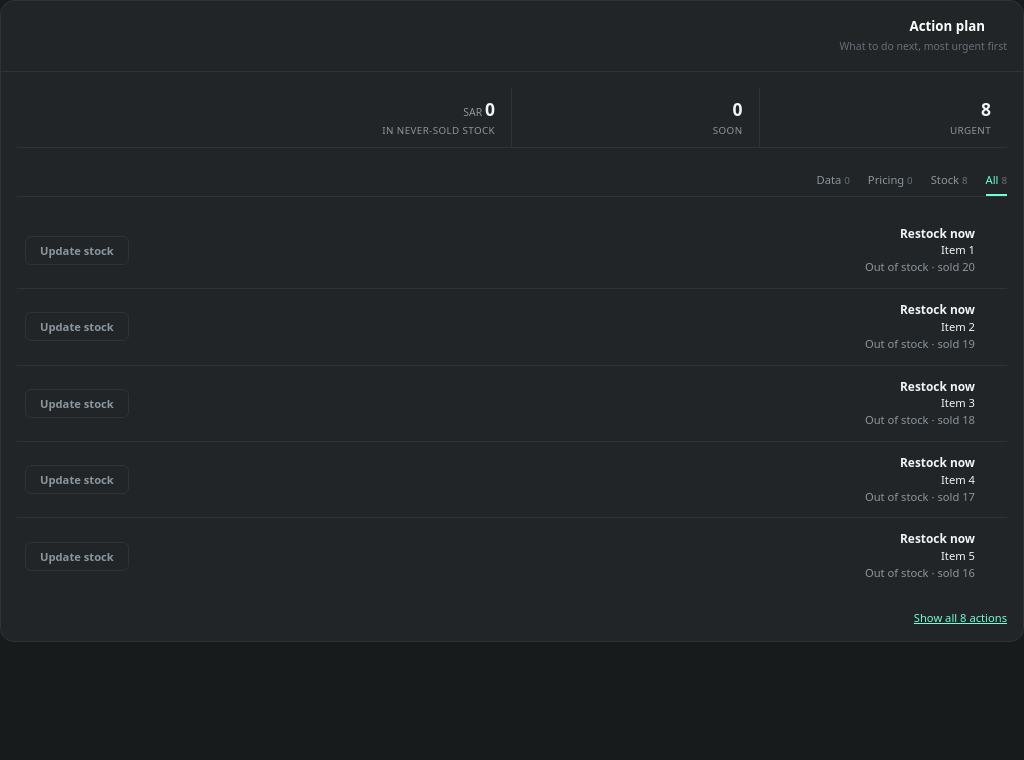
Scenario: ActionPlan › shows the first 5 and expands to all
Expected: the number of list items is 5, [17,213,1007,289]; [17,289,1007,366]; [17,366,1007,442]; [17,442,1007,518]; [17,518,1007,594]
Click the button "Show all 8 actions".
click(960, 617)  # box [914,610,1007,625]
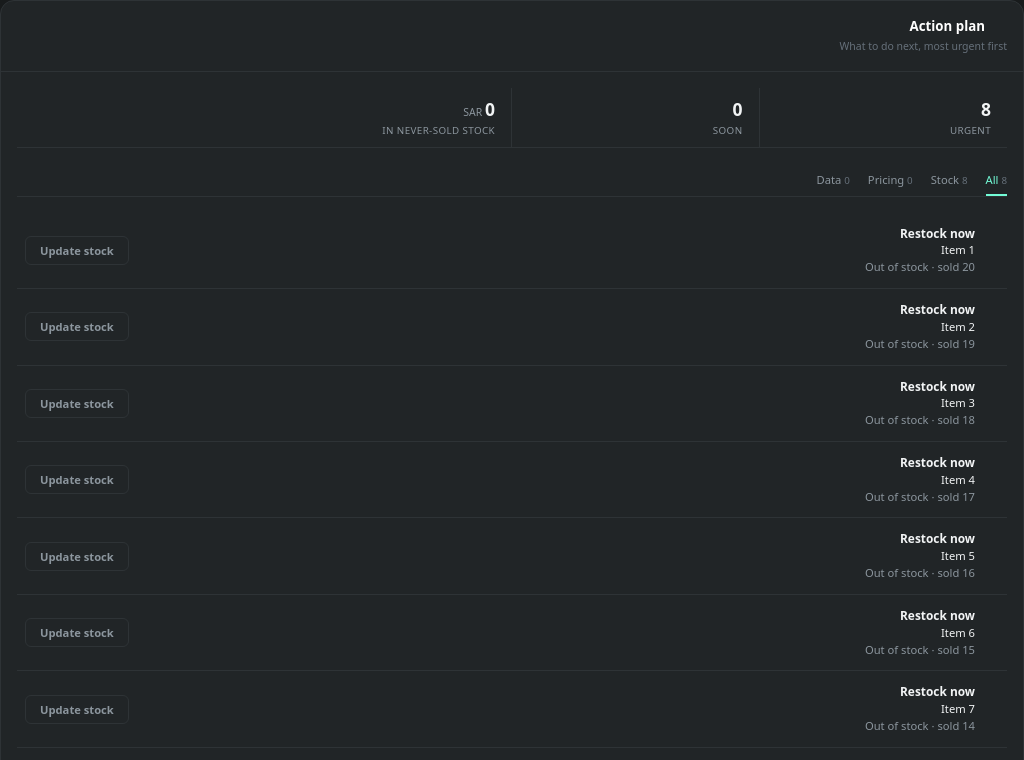
Expected: the number of list items is 8
